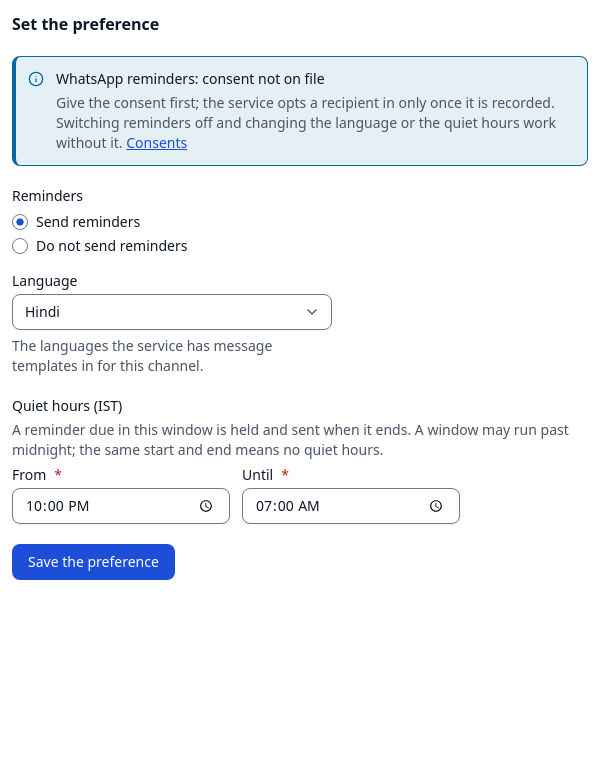
Scenario: PreferenceForm › says why reminders cannot be switched on without the consent, and shows refusals
Click the button "Save the preference".
click(93, 562)  # box [12,544,175,580]
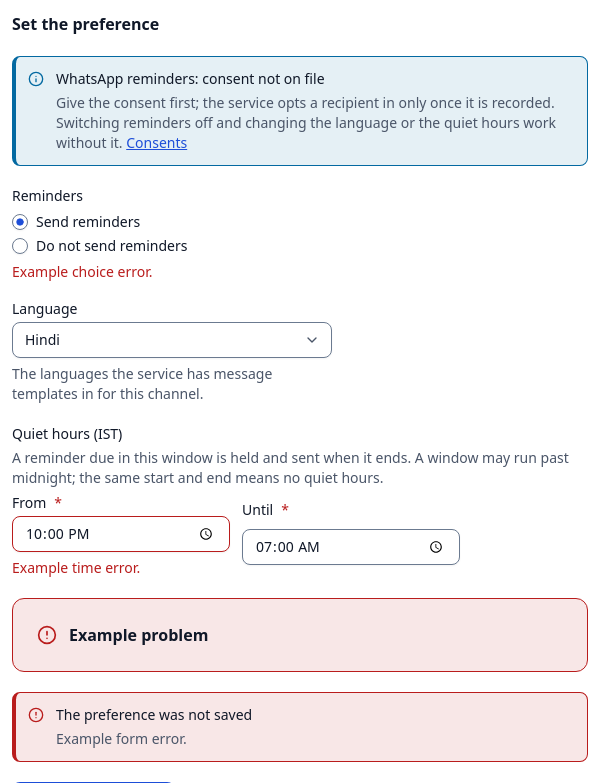
Check: the list item "Example form error." is shown, box [56,729,187,748]
Check: the text "Example problem" is shown, box [69,624,208,646]
Check: the text "Example choice error." is shown, box [12,262,152,281]
